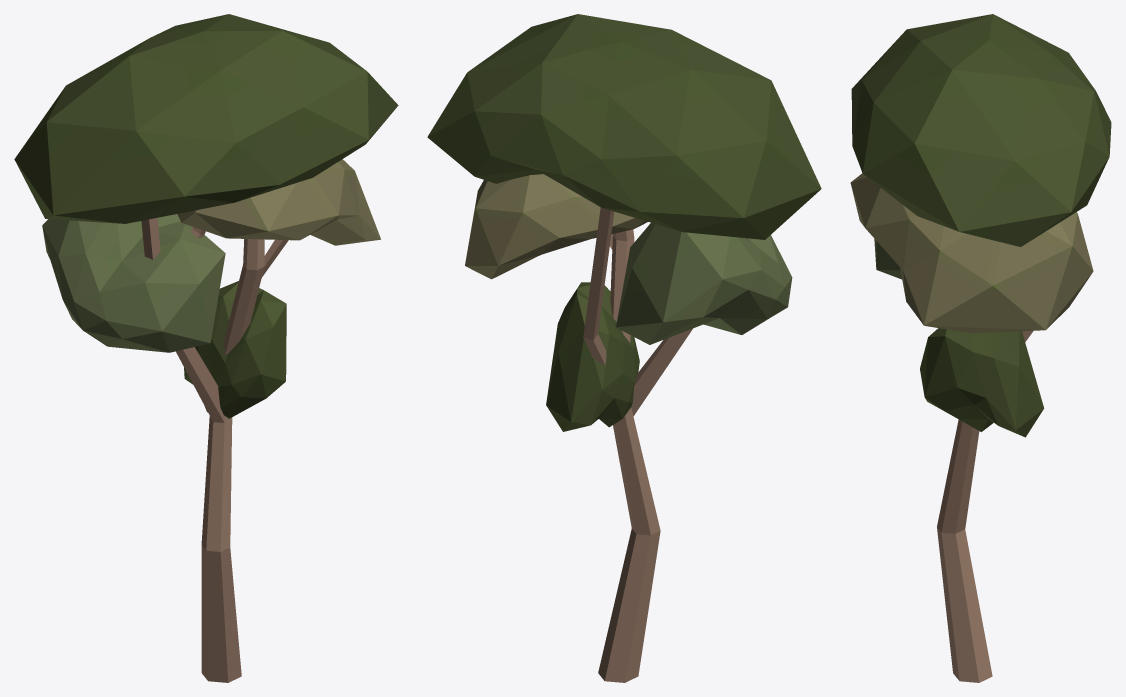
File: LPTree_Tree_Type3_04_Model_instanced_l2.glb
3 renders of one model, left to right at view 1: azimuth 30°, elevation 25°; view 2: azimuth 150°, elevation 25°; view 3: azimuth 270°, elevation 25°, orthographic.
Visible parts, largest first — view 1: Tree Type3 04 Model; view 2: Tree Type3 04 Model; view 3: Tree Type3 04 Model.
Boxes of the visible parts, box(x1,y1,x2,y2) form: Tree Type3 04 Model: box(14, 14, 398, 682); Tree Type3 04 Model: box(427, 14, 821, 682); Tree Type3 04 Model: box(850, 14, 1111, 682).
Bounding box in the file's own units: 3.47 × 5.96 × 2.24.
Materials: 1 (1 with a texture image).
